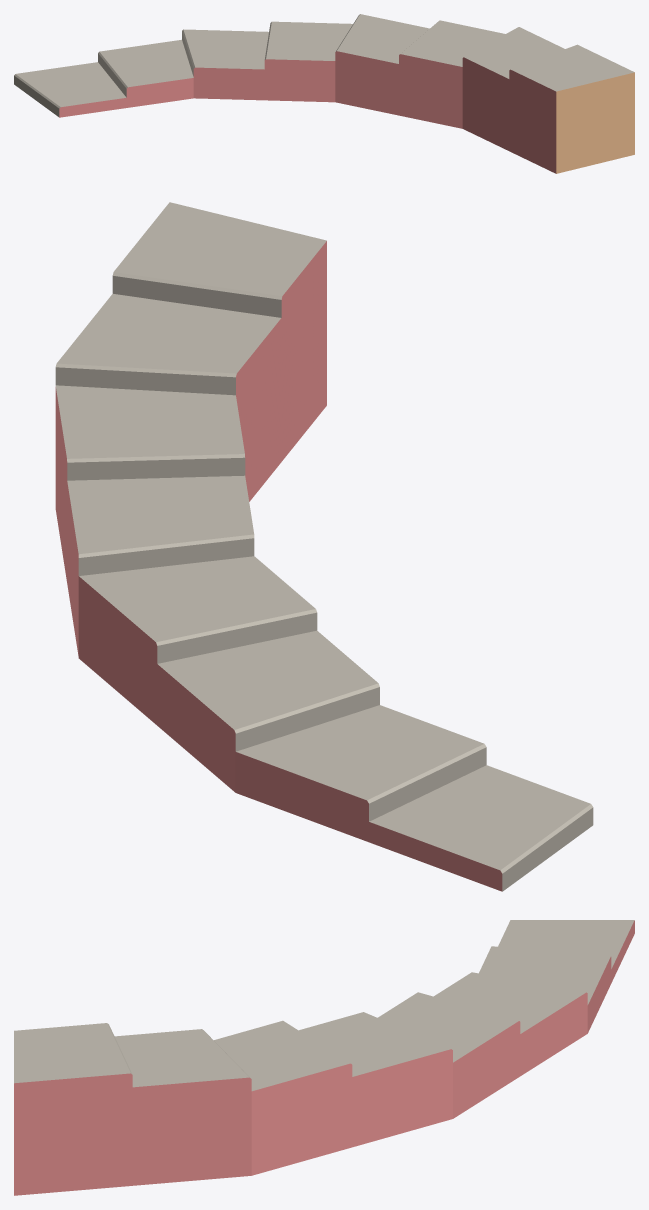
The model's file is Tiered_Walkway_Steps_Curve_Short_5x5.glb.
3 views of the same model, one above another, from view 1: azimuth 30°, elevation 25°; view 2: azimuth 150°, elevation 25°; view 3: azimuth 270°, elevation 25° (orthographic). The views are drawn at different scales.
Visible parts, largest first — view 1: Tiered_Walkway_Steps_Curve_Short_5x5; view 2: Tiered_Walkway_Steps_Curve_Short_5x5; view 3: Tiered_Walkway_Steps_Curve_Short_5x5.
Part boxes in pixels (x1,y1,x2,y2): Tiered_Walkway_Steps_Curve_Short_5x5: [14, 14, 634, 173]; Tiered_Walkway_Steps_Curve_Short_5x5: [55, 202, 593, 891]; Tiered_Walkway_Steps_Curve_Short_5x5: [14, 920, 634, 1195].
Bounding box in the file's own units: 500 × 100 × 500.
